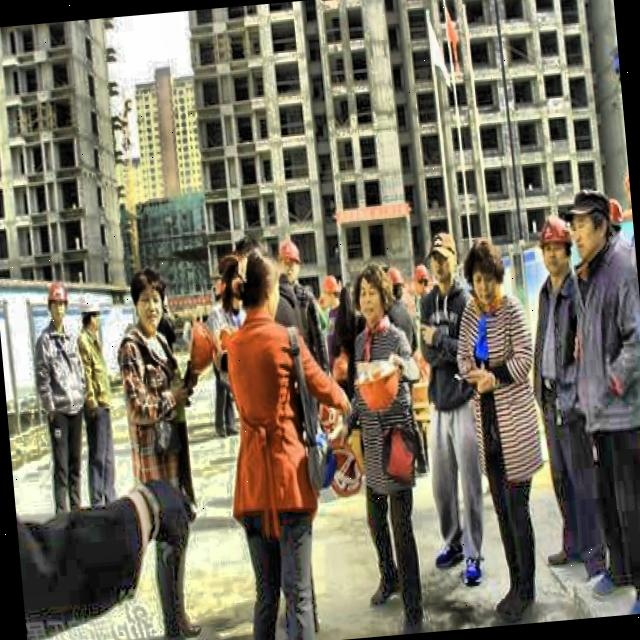helmet: (536, 212, 576, 280), (76, 288, 107, 336), (44, 279, 71, 327), (277, 238, 301, 282), (408, 260, 432, 298), (321, 272, 343, 308)
